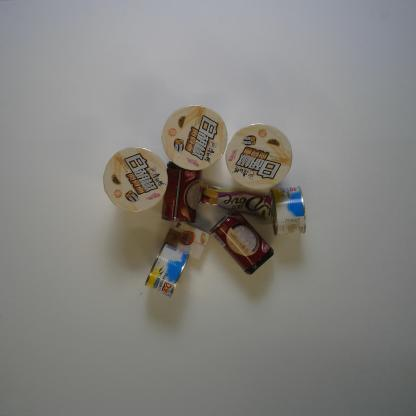Canned Food: (210, 209, 274, 275), (160, 160, 202, 224), (144, 242, 191, 298), (270, 186, 306, 236)
Chocolate: (198, 181, 272, 220)
Instant Noodles: (225, 123, 293, 191), (161, 104, 228, 172), (102, 147, 169, 212)
Tissue: (162, 220, 210, 260)
